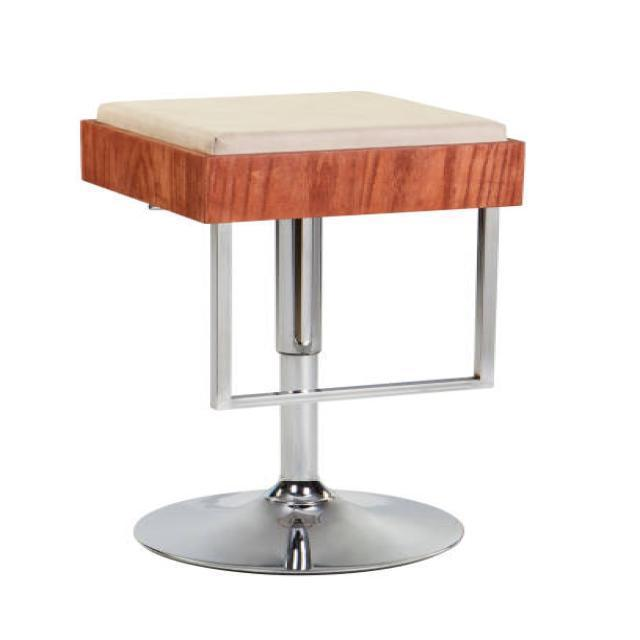table: (78, 89, 526, 576)
